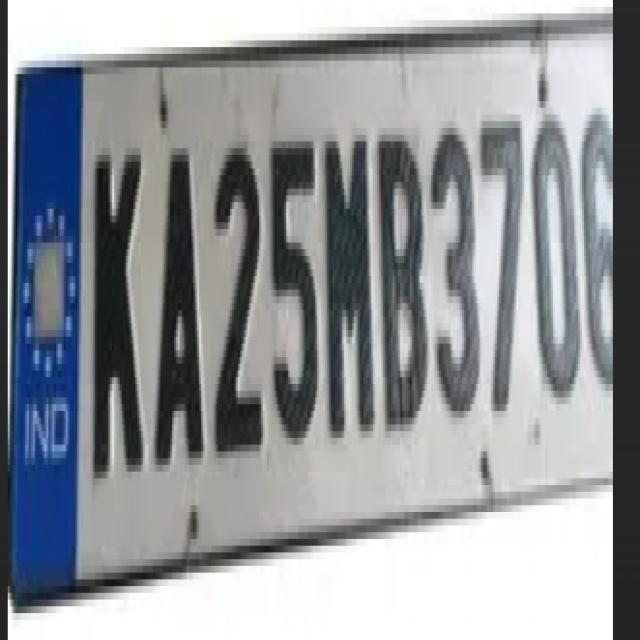0: (532, 84, 588, 417)
3: (428, 124, 483, 424)
5: (272, 122, 320, 458)
6: (576, 84, 622, 391)
7: (486, 115, 526, 417)
A: (154, 135, 208, 487)
B: (380, 126, 426, 444)
K: (88, 140, 144, 494)
M: (325, 126, 376, 442)
